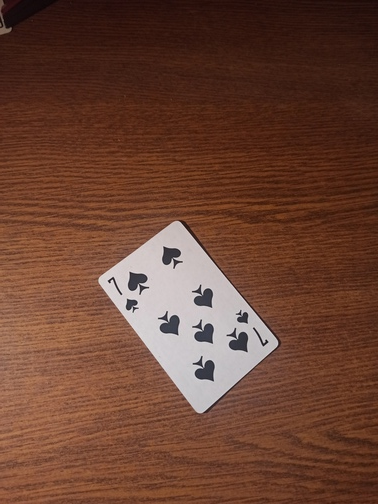sevenspades: (96, 218, 282, 415)
